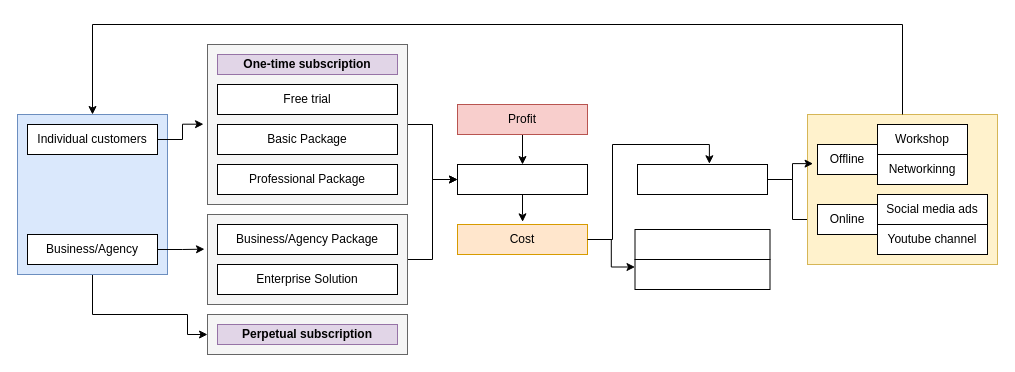
The diagram is 1015 pixels wide and 372 high, and some of its shapes have lost their labels. The shapes that lost their labels are listed below. From the top down, each one's centre as x and y in pixels, then its label:
the point at 522,179: Revenue
the point at 702,179: Marketing
the point at 702,244: AI engineer team
the point at 702,274: AI system operations
